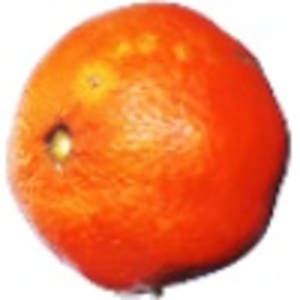tangerina: (5, 1, 292, 300)
